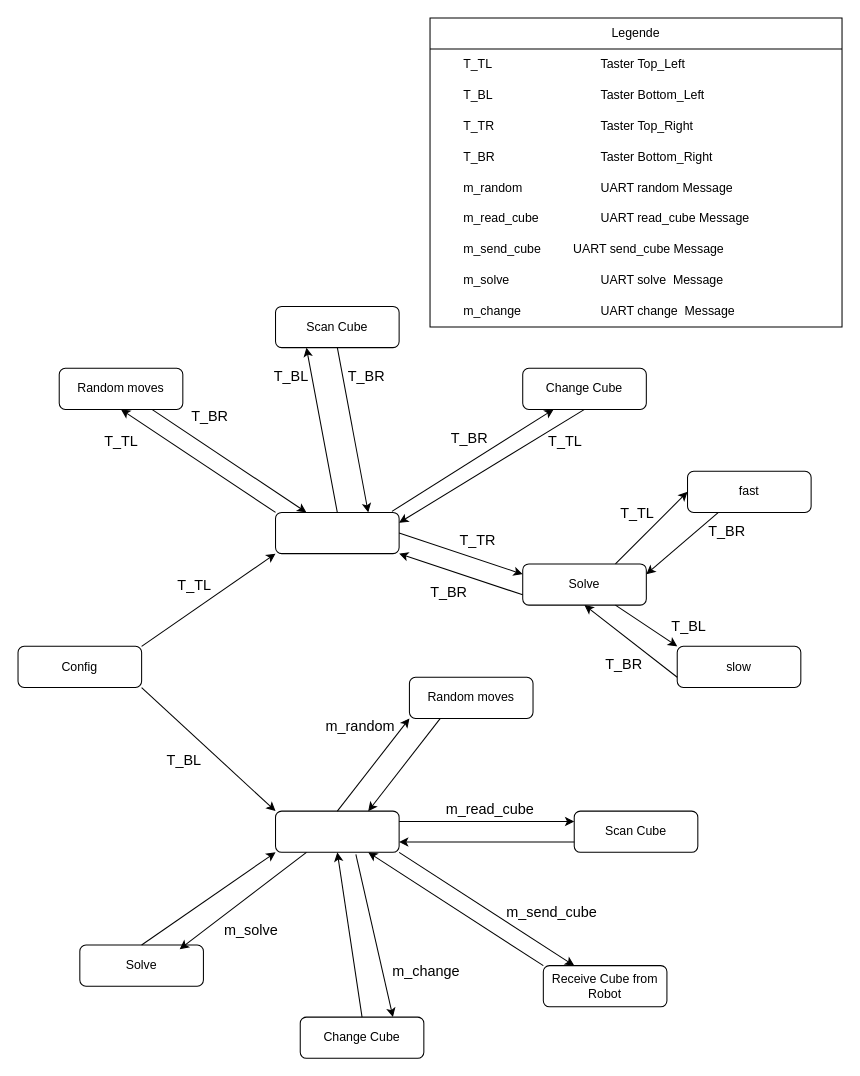
Image size: 860x1076. Some labels were removed from this diagram. Each missing label, with the centre of its shape:
Automatic (intern): (336,532)
external PC: (336,831)
